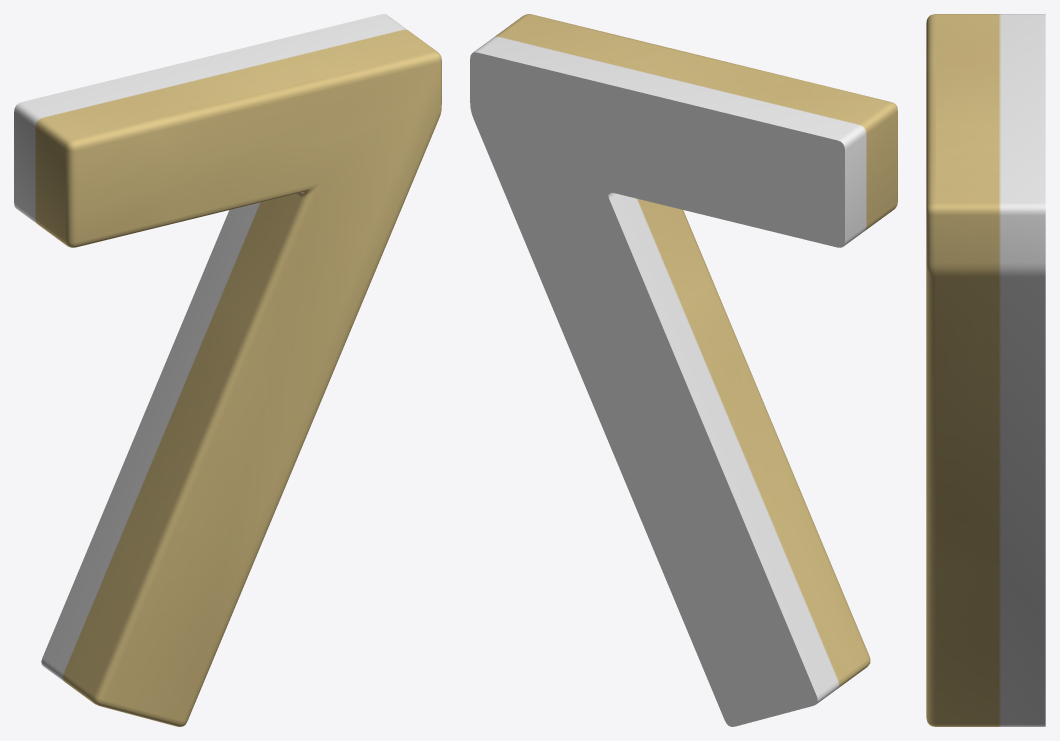
File: LettersLightUp01_7.FBX
3 renders of one model, left to right at view 1: azimuth 30°, elevation 25°; view 2: azimuth 150°, elevation 25°; view 3: azimuth 270°, elevation 25°, orthographic. The views are drawn at different scales.
Visible parts, largest first — view 1: LettersLightUp01_7; view 2: LettersLightUp01_7; view 3: LettersLightUp01_7.
Boxes of the visible parts, x1=… form: LettersLightUp01_7: x1=14, y1=14, x2=441, y2=726; LettersLightUp01_7: x1=470, y1=14, x2=897, y2=726; LettersLightUp01_7: x1=926, y1=14, x2=1045, y2=726.
Size of what is drawn, in the model's own units: 0.3927 by 0.6128 by 0.1012.
